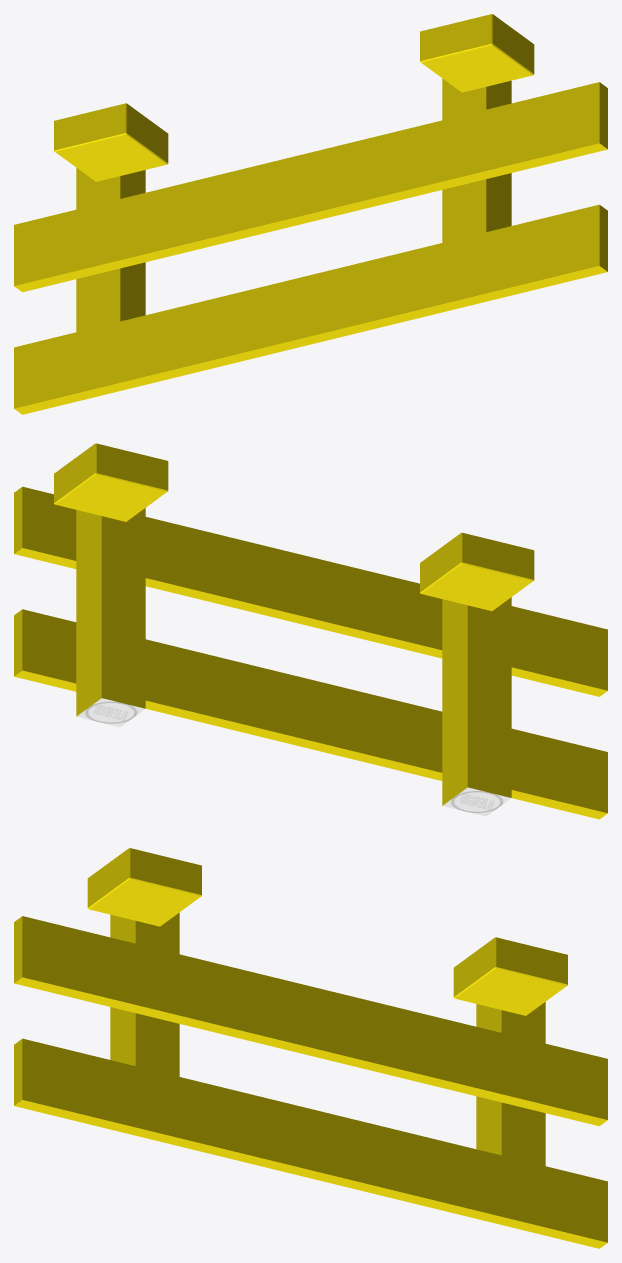
3 renders of one model, top to bottom at view 1: azimuth 30°, elevation 25°; view 2: azimuth 150°, elevation 25°; view 3: azimuth 330°, elevation 25°, orthographic.
Visible parts, largest first — view 1: 010_L_607900_PART_5, 009_L_607900_PART_6, 005_L_607900_PART_2, 007_L_607900_PART_1, 008_L_607900_PART_4, 011_L_607900_PART_3; view 2: 009_L_607900_PART_6, 010_L_607900_PART_5, 008_L_607900_PART_4, 011_L_607900_PART_3, 005_L_607900_PART_2, 007_L_607900_PART_1; view 3: 009_L_607900_PART_6, 010_L_607900_PART_5, 007_L_607900_PART_1, 005_L_607900_PART_2, 011_L_607900_PART_3, 008_L_607900_PART_4.
Part boxes in pixels (x1,y1,x2,y2): 010_L_607900_PART_5: [14, 82, 607, 292]; 009_L_607900_PART_6: [14, 204, 607, 414]; 005_L_607900_PART_2: [54, 103, 168, 181]; 007_L_607900_PART_1: [420, 14, 534, 92]; 008_L_607900_PART_4: [76, 168, 145, 331]; 011_L_607900_PART_3: [442, 78, 511, 242]; 009_L_607900_PART_6: [14, 609, 607, 819]; 010_L_607900_PART_5: [14, 486, 607, 696]; 008_L_607900_PART_4: [442, 597, 511, 816]; 011_L_607900_PART_3: [76, 508, 145, 727]; 005_L_607900_PART_2: [420, 532, 534, 610]; 007_L_607900_PART_1: [54, 443, 168, 521]; 009_L_607900_PART_6: [14, 1038, 607, 1248]; 010_L_607900_PART_5: [14, 916, 607, 1126]; 007_L_607900_PART_1: [453, 937, 567, 1015]; 005_L_607900_PART_2: [87, 848, 201, 926]; 011_L_607900_PART_3: [476, 1002, 545, 1165]; 008_L_607900_PART_4: [110, 912, 179, 1076].
Bounding box in the file's own units: 6.4 × 2.56 × 0.8.
Materials: 3 (1 with a texture image).
